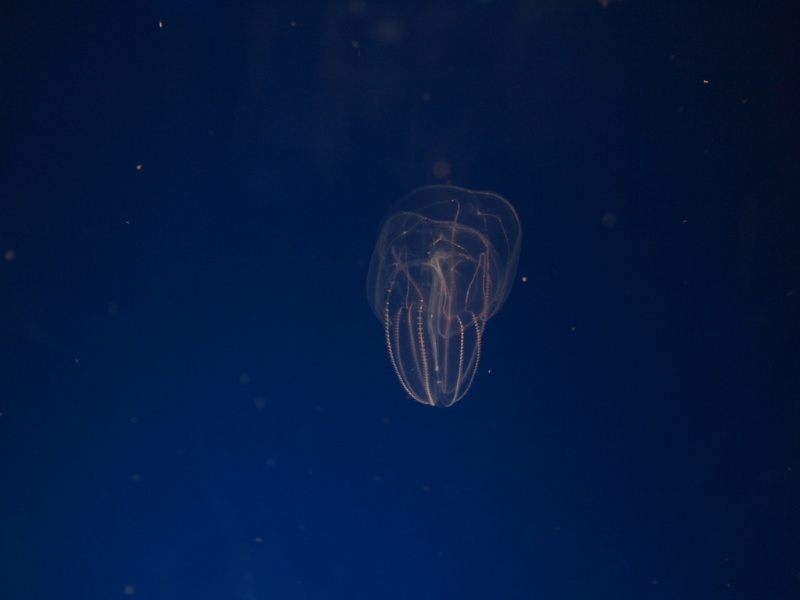Jellyfish: (371, 166, 530, 398)
